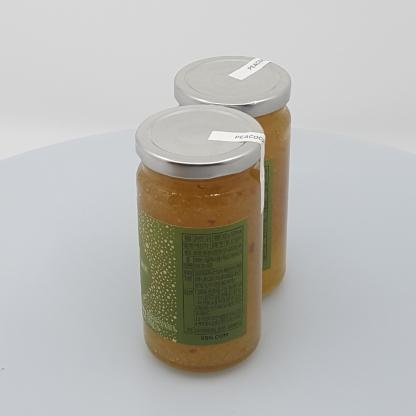------------420G: (135, 103, 265, 373)
